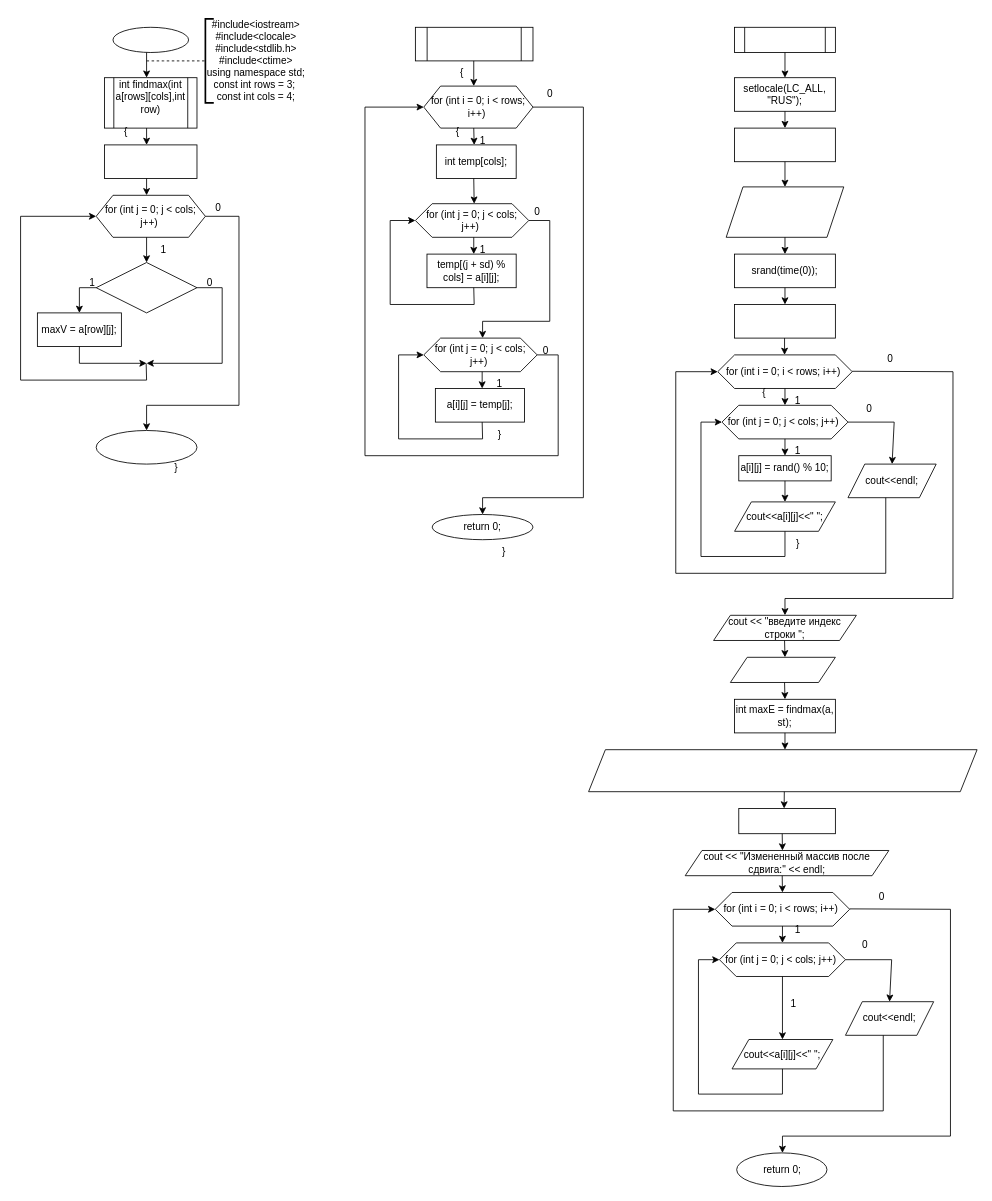
Image size: 992x1201. Some labels were removed from this diagram. The shapes that lost their labels are listed below. From the top down, each one's box as (x1, y1, x2, y2) in pixels, then its label:
(112, 26, 189, 52): начало
(415, 26, 533, 61): void sdvig(int a[rows][cols], int sd)
(734, 26, 835, 52): int main()
(104, 144, 197, 178): int maxV = a[row][0];
(734, 127, 835, 162): int st;
(725, 186, 844, 237): cout << "исходный массив" << endl;
(95, 262, 197, 313): if (a[row][j] > maxV)
(734, 304, 835, 338): int a[rows][cols];
(95, 430, 197, 464): return maxV;
(730, 656, 835, 682): cin >> st;
(588, 749, 977, 792): cout << "Максимальный элемент в строке " << st+1<< ": " << maxE << endl;
(738, 808, 835, 834): sdvig(a, maxE);
